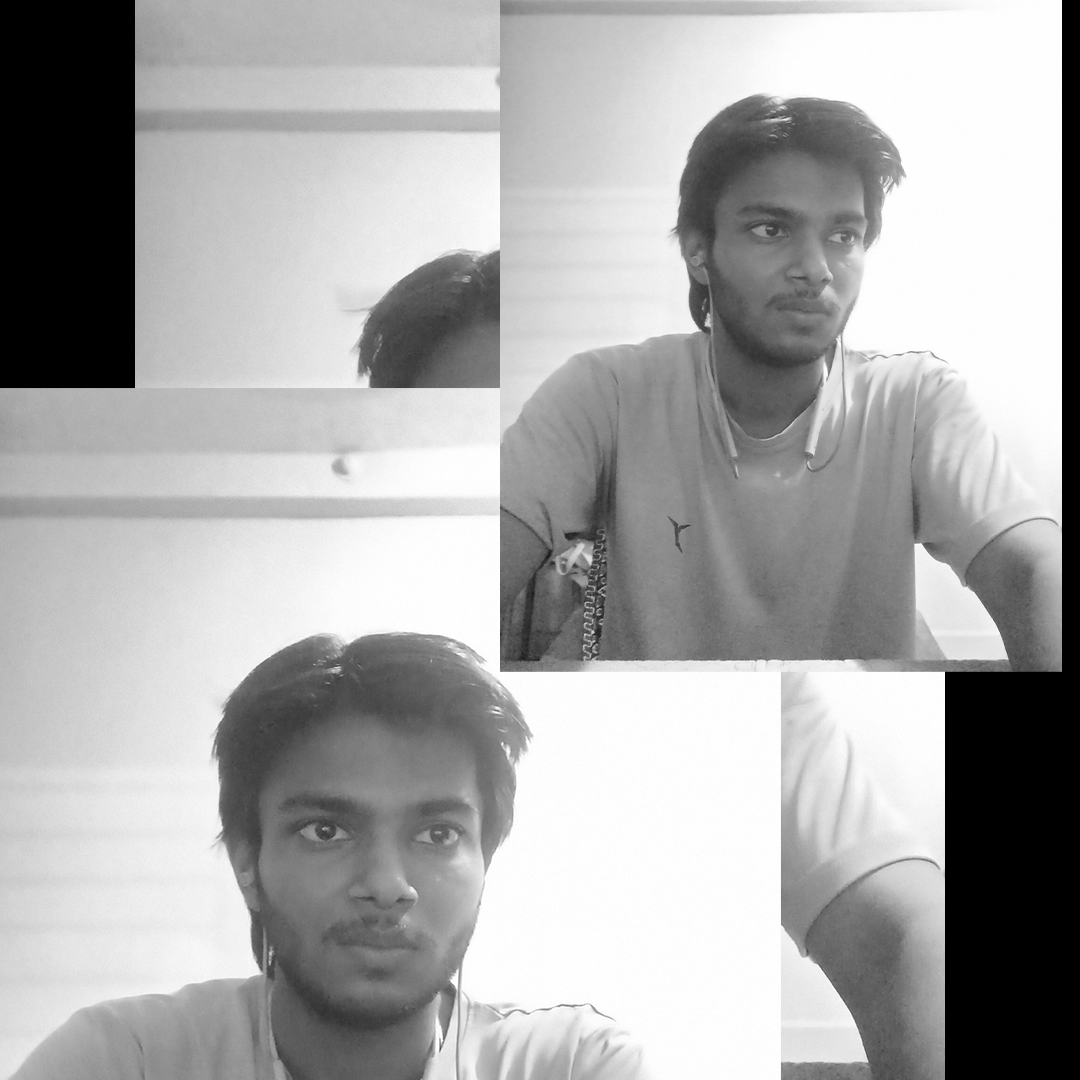Focused: (124, 522, 556, 1036), (638, 29, 911, 420)
